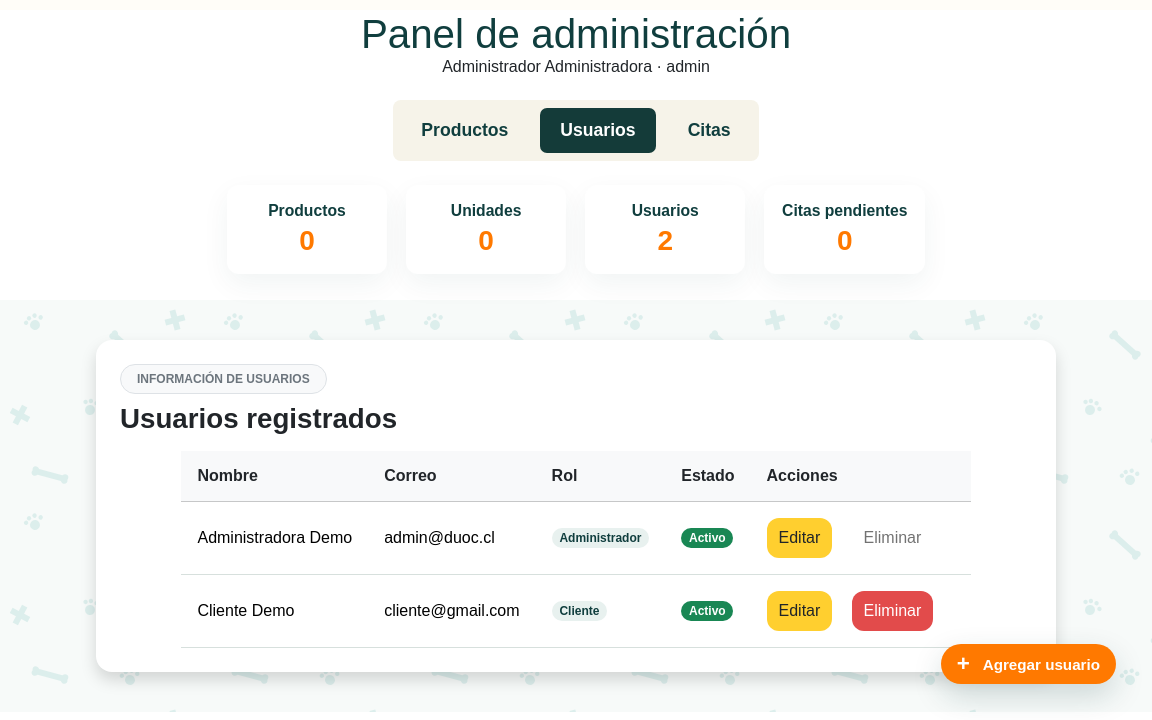
Test case: permite eliminar un usuario después de confirmar
Step 1. Click the button "Eliminar" in the row of "Cliente Demo" → (892, 611), box [852,591,933,631]
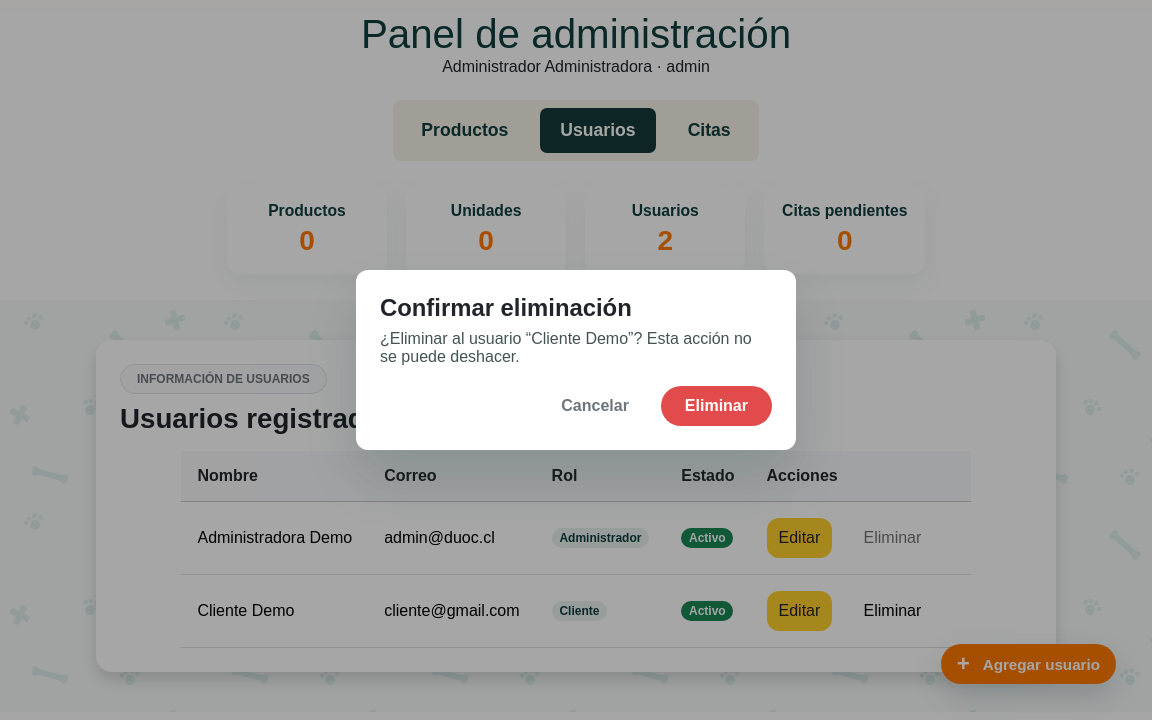
Expected: the text "Cliente Demo" is shown, [182,574,368,648]
Expected: the dialog shows "¿Eliminar al usuario “Cliente Demo”?", [356,270,796,450]
Step 2. Click the button with class "btn-delete" showing "Eliminar" → (716, 406), box [661,386,772,426]
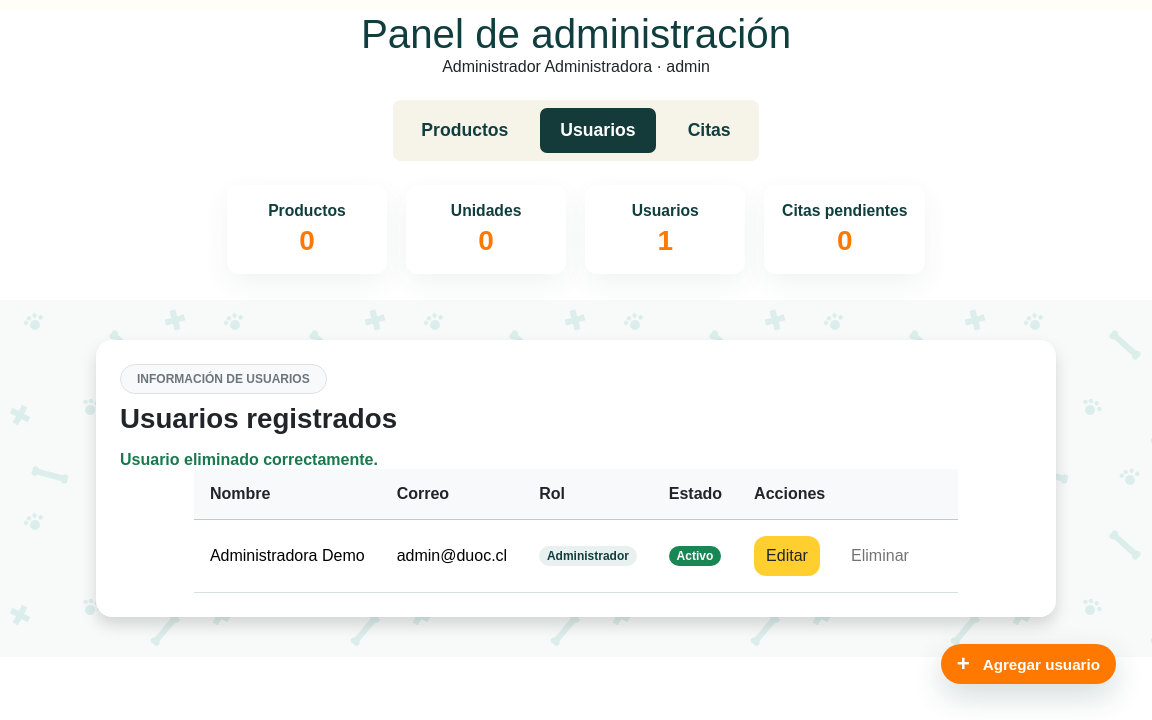
Expected: the text "Cliente Demo" is gone
Expected: the message reads "Usuario eliminado correctamente.", [120,451,378,468]
